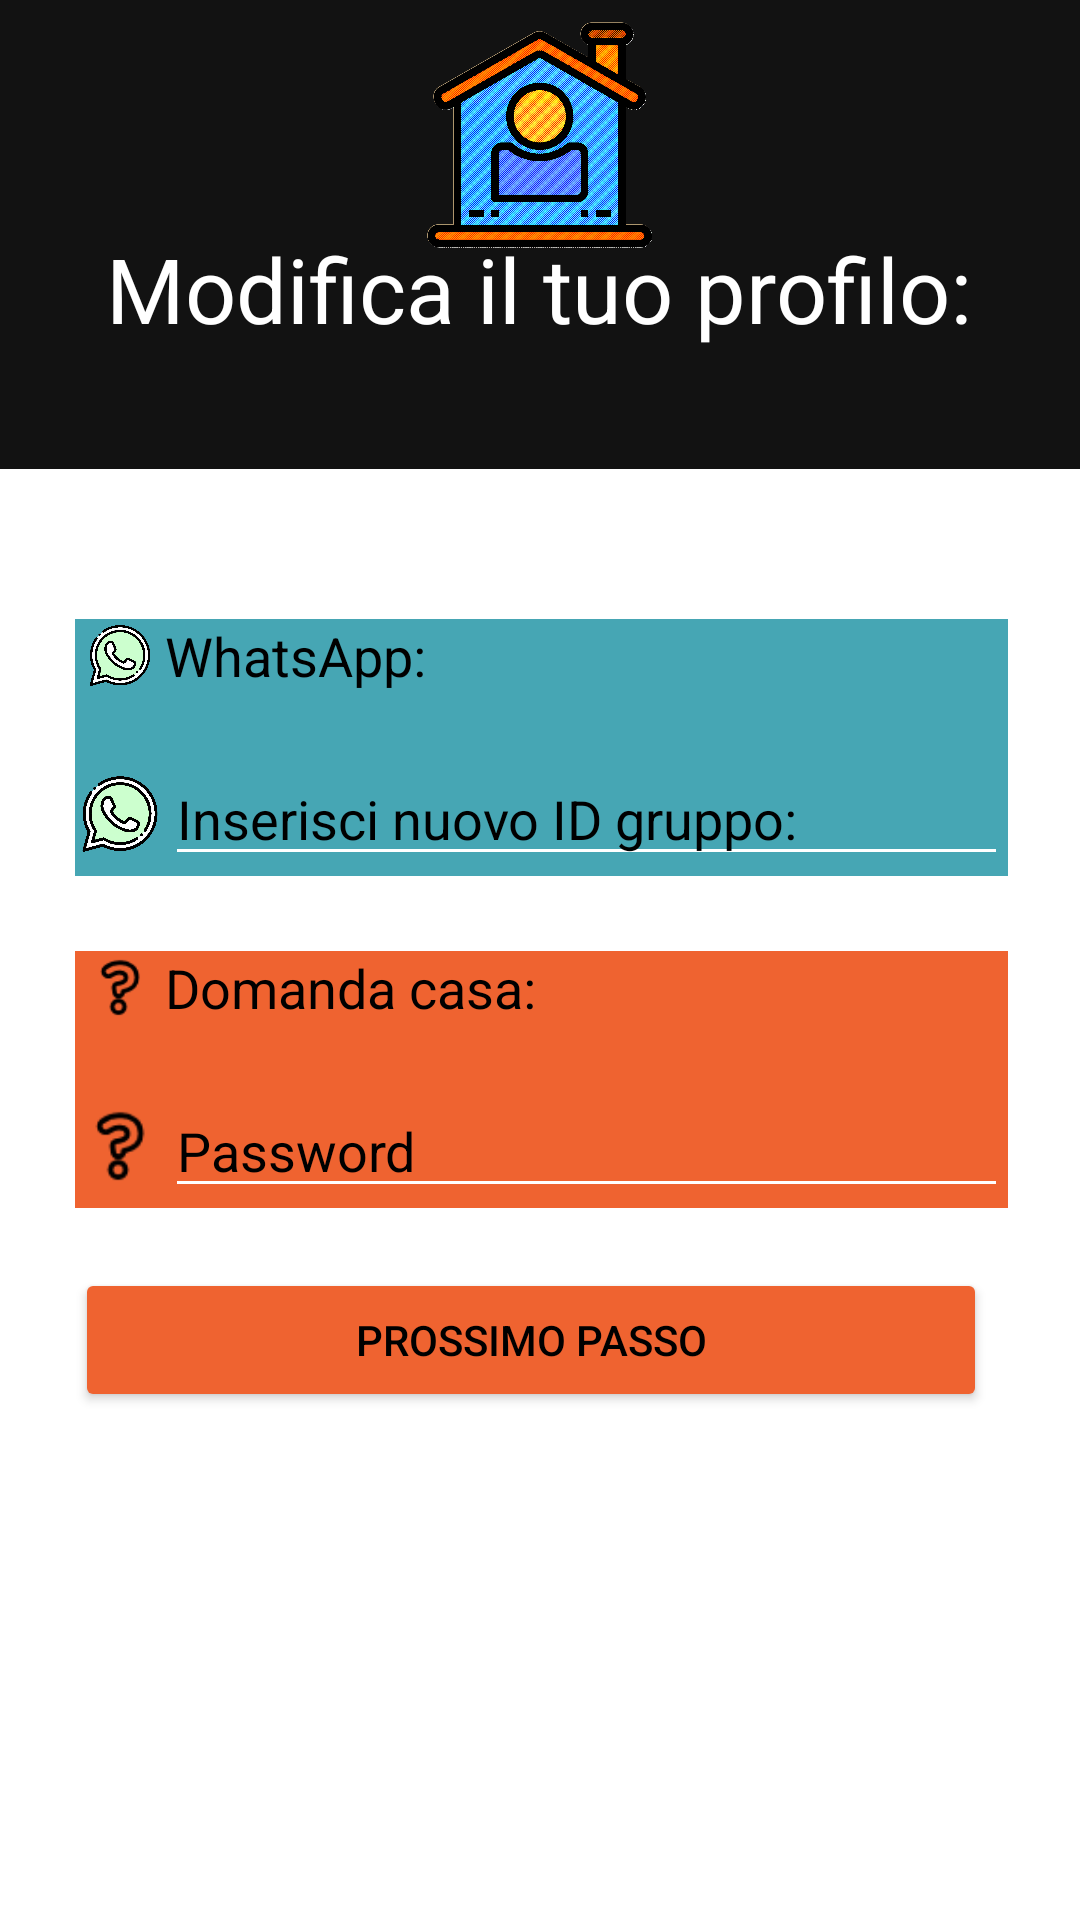

Screen size 1080px×1920px. Icon name, then its box in pixels as (x1, y1, x2, y2):
question: (100, 960, 140, 1015), (96, 1112, 145, 1180)
